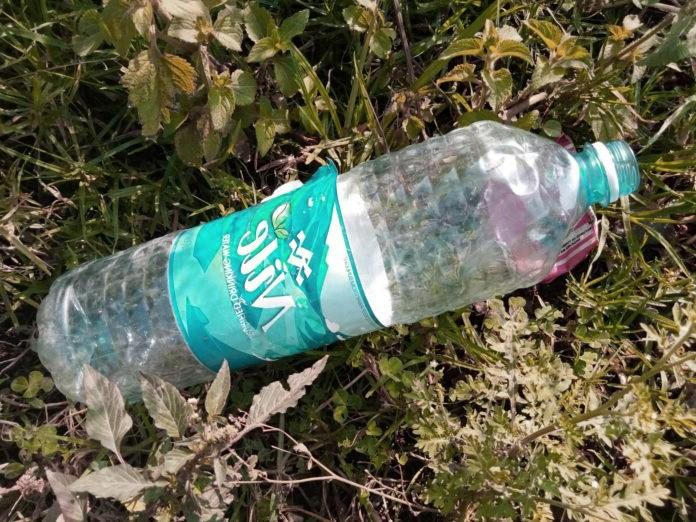Plastic: (34, 120, 642, 408)
